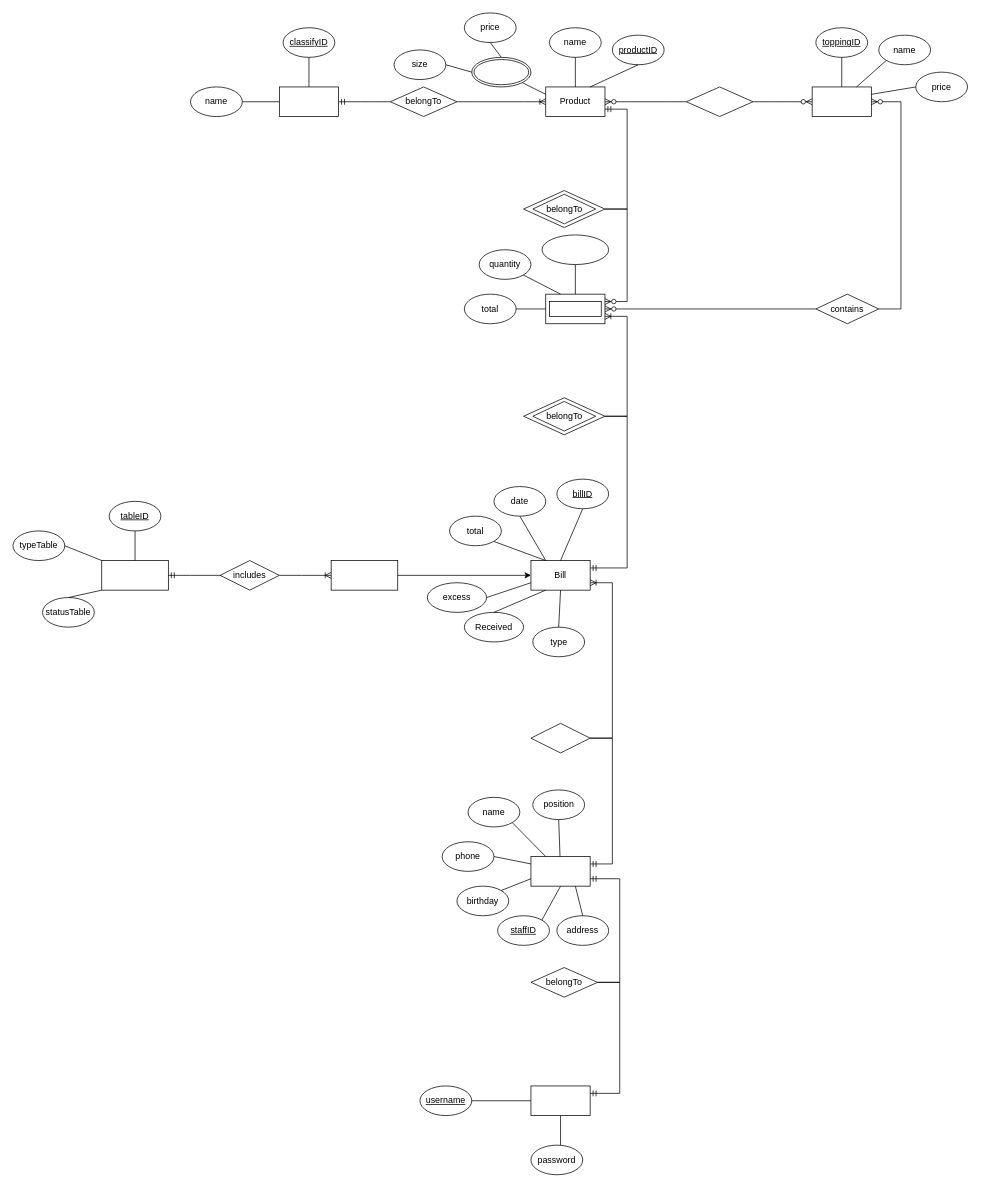
Some shapes in this 981 by 1188 pixel diagram are drawn without their labels. The shapes that lost their labels are listed below. From the top down, each one's box as (x1, y1, x2, y2) in pixels, then its label:
(471, 57, 531, 87): sizeAndPrice
(279, 86, 339, 117): Classify
(686, 86, 753, 117): combined
(811, 86, 871, 117): Topping
(541, 234, 609, 265): ordinalNumber
(549, 301, 601, 316): DetailBill
(101, 560, 168, 590): Table
(330, 560, 398, 590): SpotBill
(530, 723, 590, 753): sepUp
(530, 856, 590, 886): Staff
(530, 1085, 590, 1116): Account
